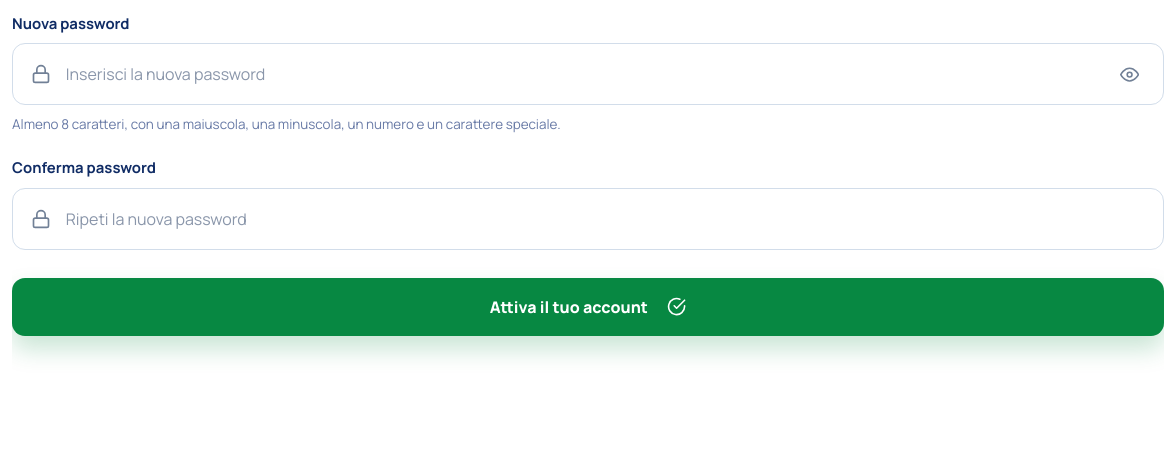
ResetPasswordForm › modalità attivazione › su token bruciato non rimanda a «Password dimenticata»
The width and height of the screenshot is (1176, 457).
Type "Password1!" into the password field labelled "Nuova password" at point(583, 74), box [66, 62, 1100, 86]
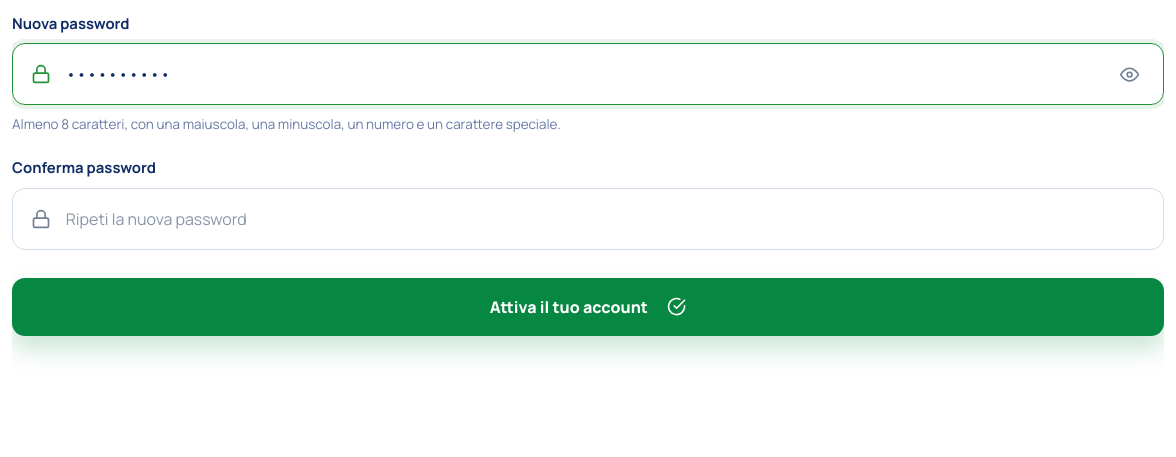
Type "Password1!" into the password field labelled "Conferma password" at point(605, 219), box [66, 207, 1145, 231]
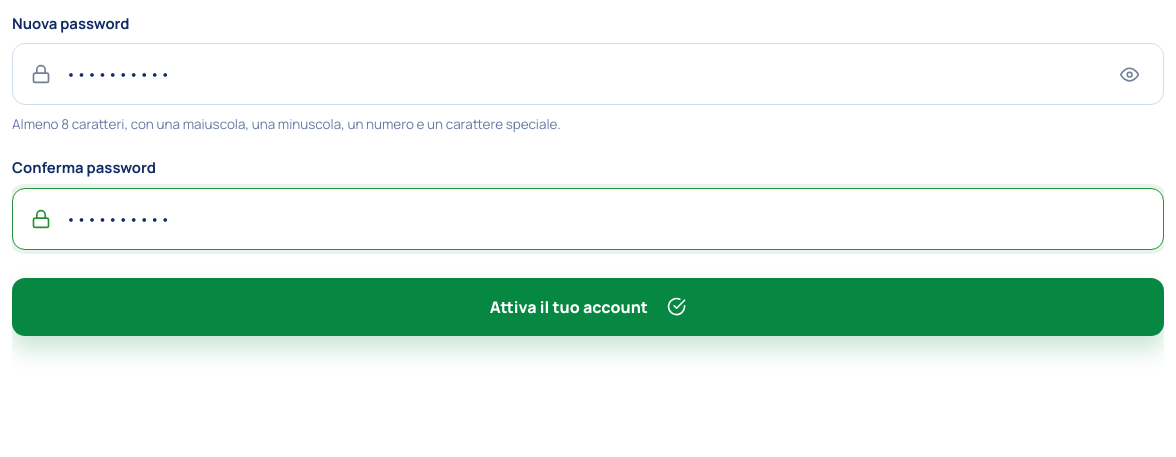
Click the button "Attiva il tuo account" at point(588, 306), box [12, 278, 1164, 336]
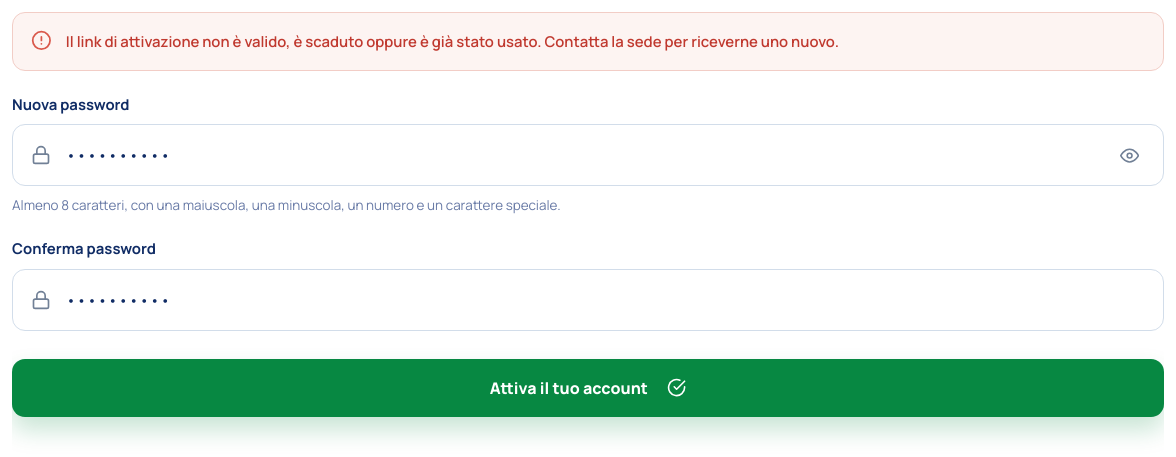
Expected: the message does not show "password dimenticata", [12, 12, 1164, 71]
Expected: the message shows "link di attivazione non è valido", [66, 31, 839, 51]
